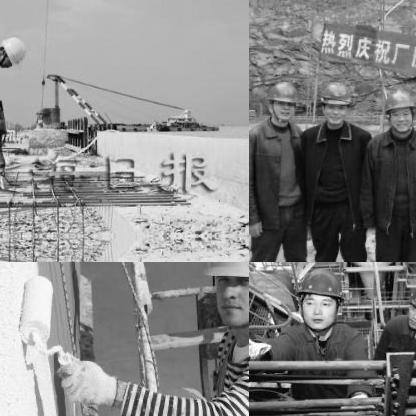Helmet: (197, 262, 248, 338), (295, 263, 349, 327), (379, 85, 415, 135), (318, 76, 352, 124), (264, 78, 298, 122), (0, 31, 29, 69), (404, 276, 415, 328)
